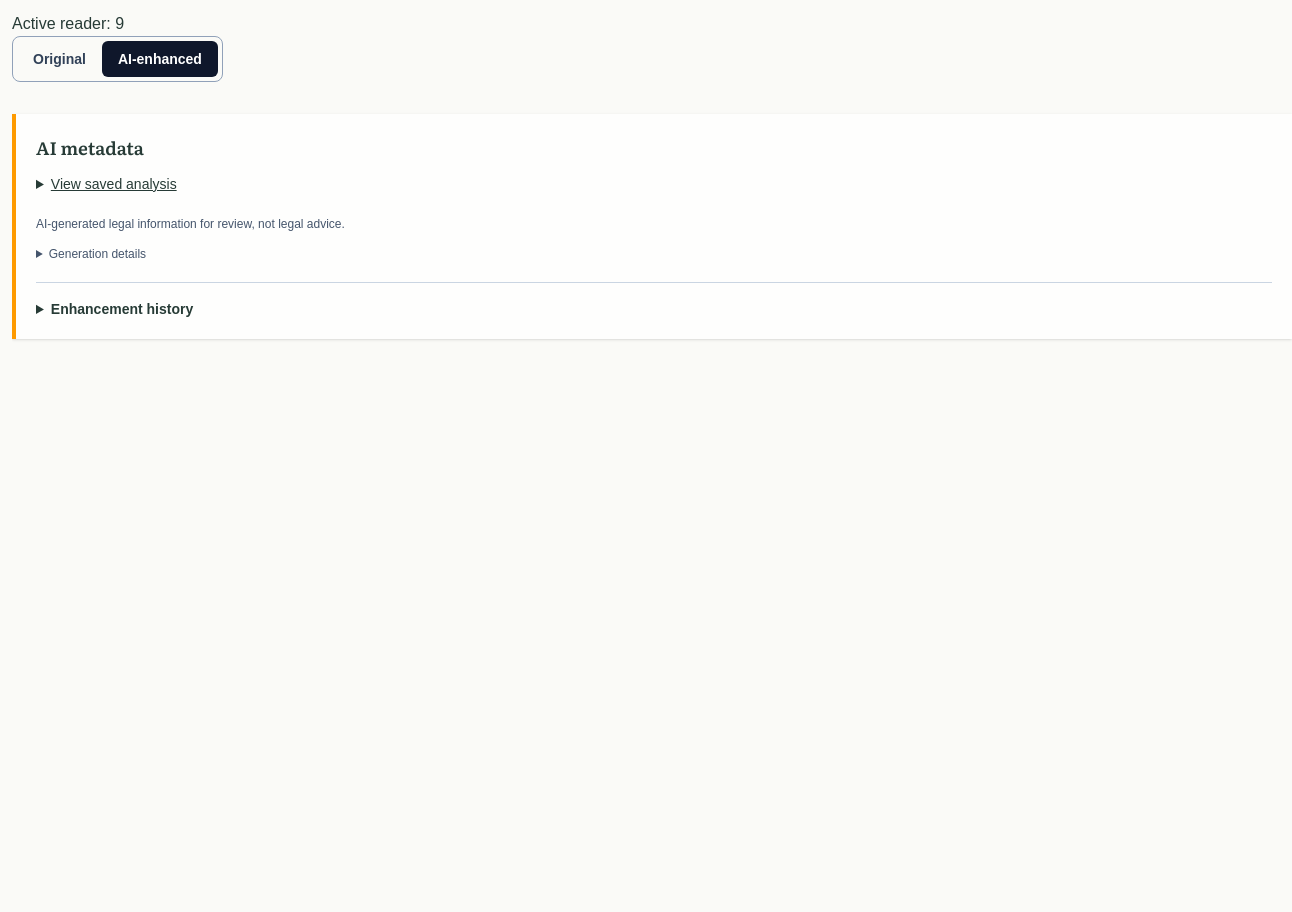
Scenario: BillEnhancementPanel › loads logical enhancement history and opens an older result
Expected: the text "Active reader: 9" is shown, [12,15,124,32]
Click the heading "Enhancement history": coordinates (122, 309) [51,301,193,317]
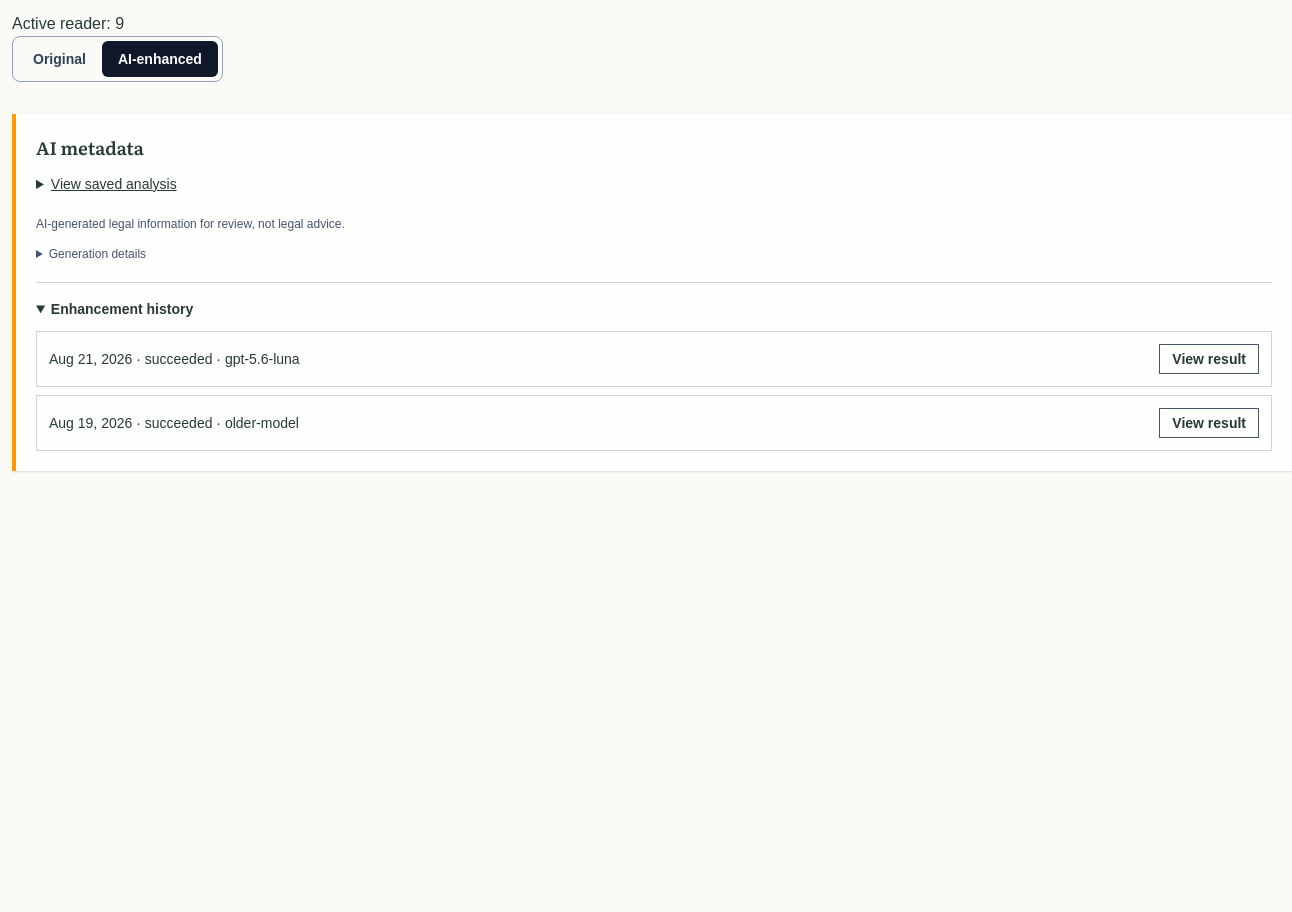
Click the button with aria-label "view enhancement from Aug 19, 2026": coordinates (1209, 423) [1159,408,1259,438]
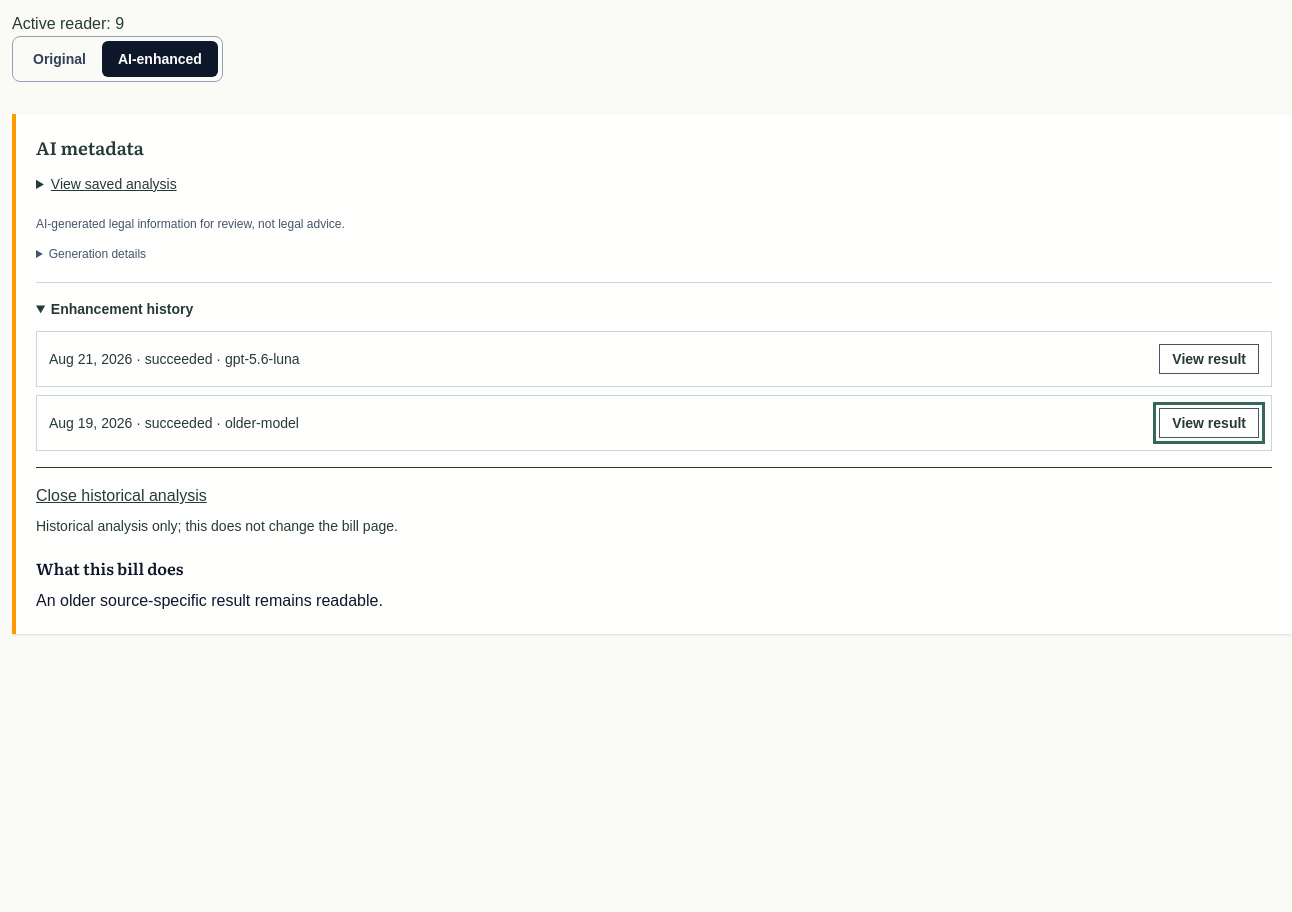
Expected: the text "Active reader: 9" is shown, [12,15,124,32]
Expected: the text "An older source-specific result remains readable." is shown, [36,592,383,609]
